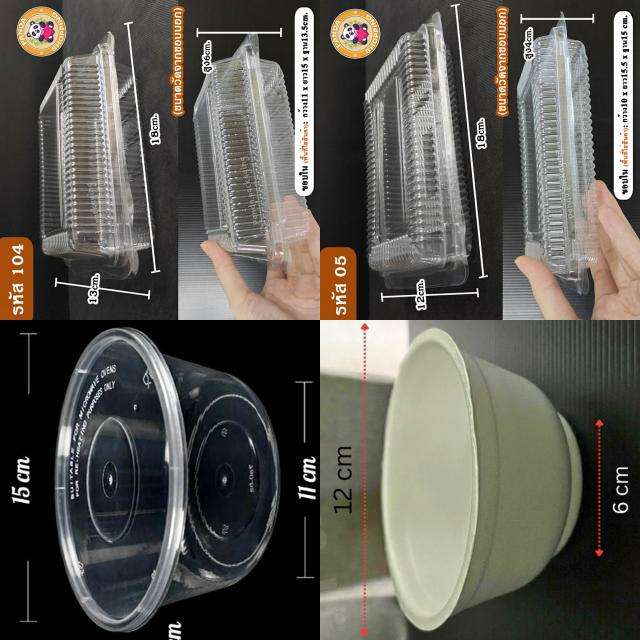Single-Use-Plastic: (56, 329, 280, 631), (382, 329, 581, 630), (365, 12, 470, 288), (39, 32, 152, 279), (194, 34, 309, 267), (518, 15, 600, 294)
